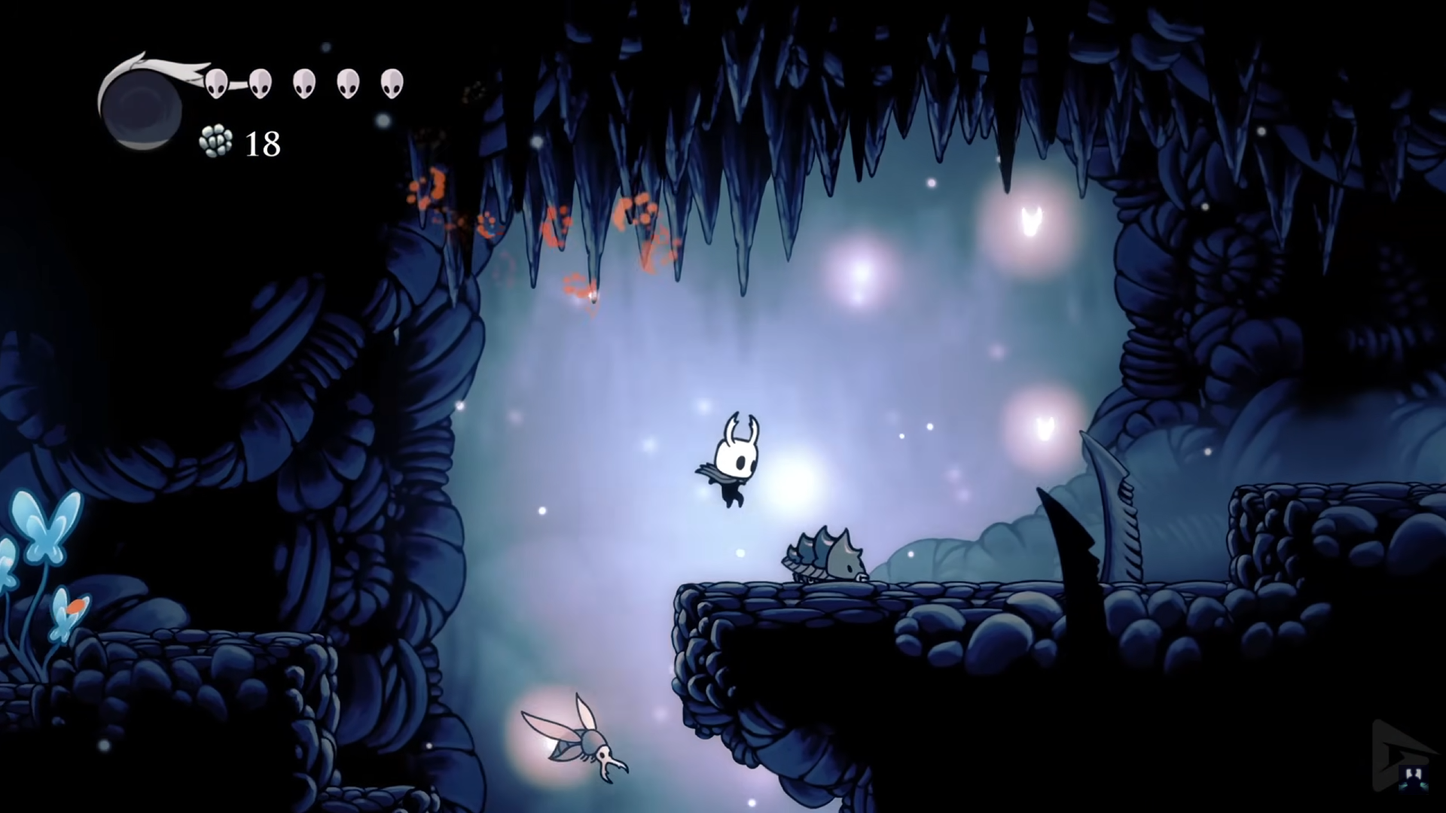HK: (705, 409, 763, 513)
